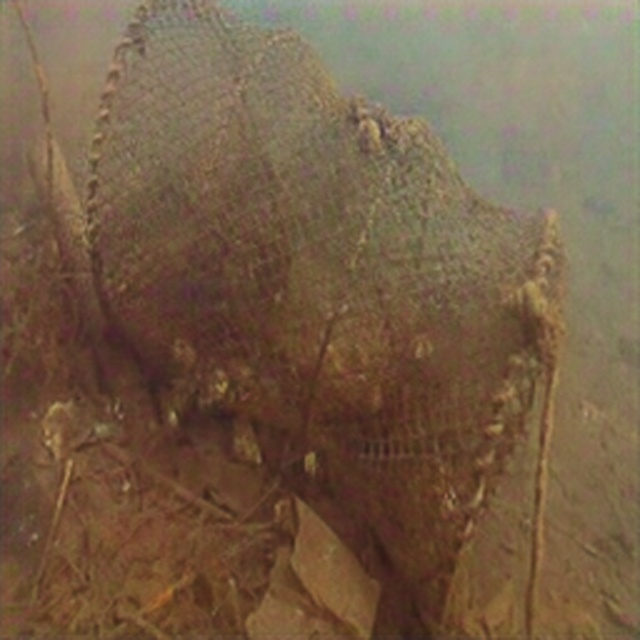mine: (84, 0, 570, 640)
